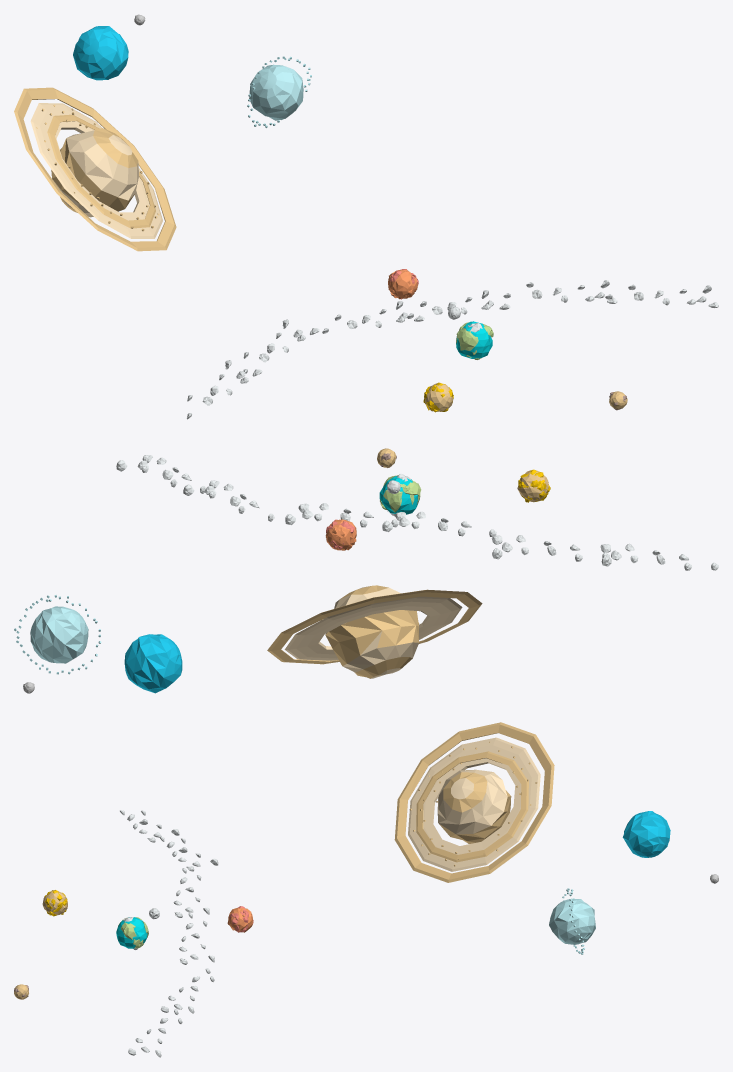
Rendered from space01.gltf.
3 views of the same model, one above another, from view 1: azimuth 30°, elevation 25°; view 2: azimuth 150°, elevation 25°; view 3: azimuth 270°, elevation 25° (orthographic). The views are drawn at different scales.
Visible parts, largest first — view 1: model; view 2: model; view 3: model.
Part boxes in pixels (x1,y1,x2,y2): model: (14,14,718,419); model: (14,448,718,693); model: (14,722,718,1057).
Bounding box in the file's own units: 51.86 × 15.42 × 68.25.
